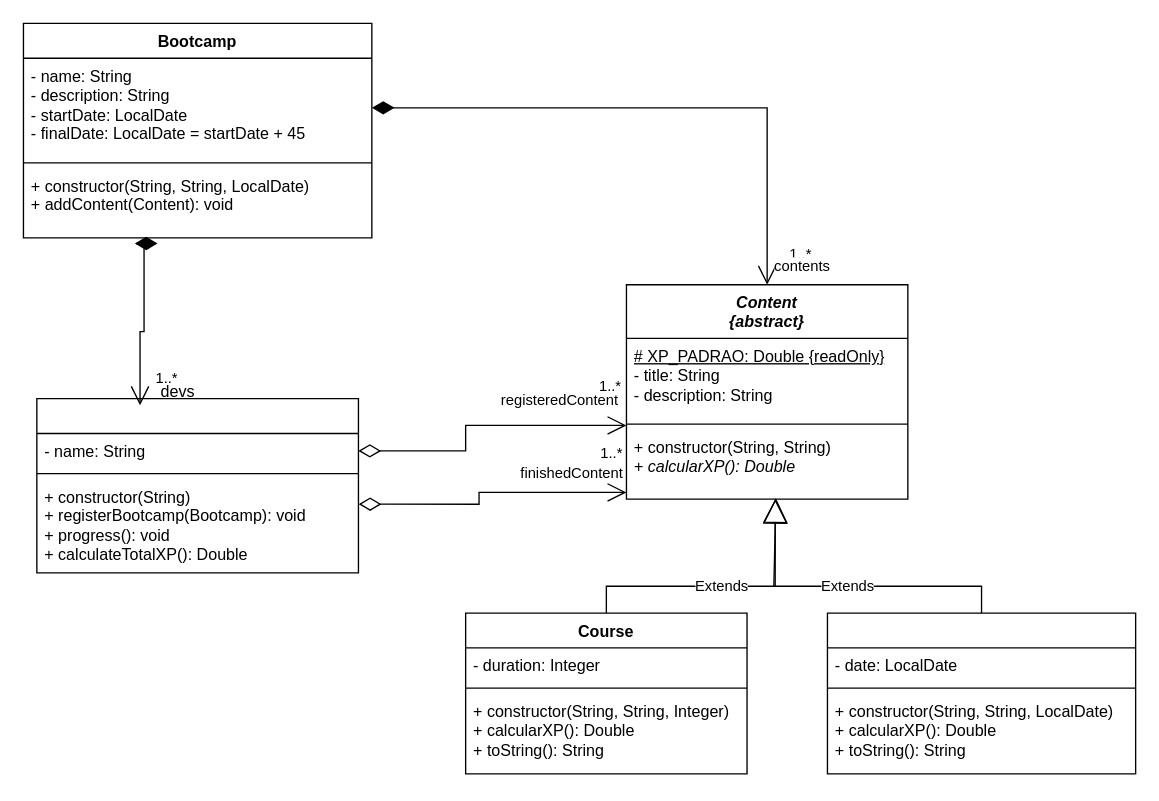
Some shapes in this 1159 by 801 pixel diagram are drawn without their labels. The box of each missing label's shape, as (x1, y1, x2, y2) in pixels:
Dev: (36, 397, 358, 573)
Mentoring: (826, 612, 1136, 774)
